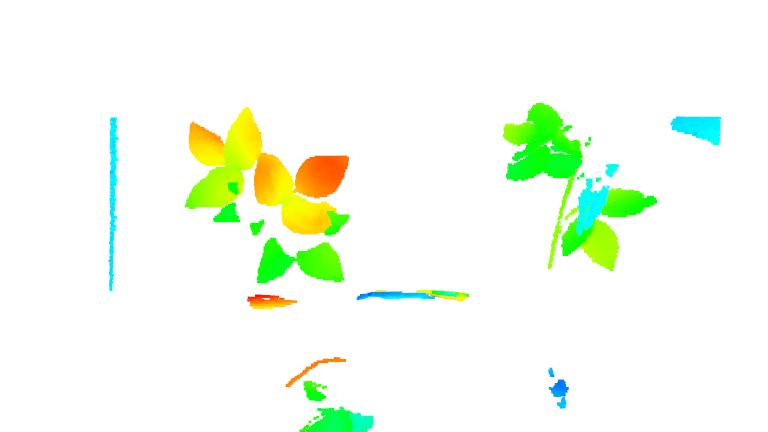mungbean: (185, 106, 352, 289), (501, 105, 661, 272)
